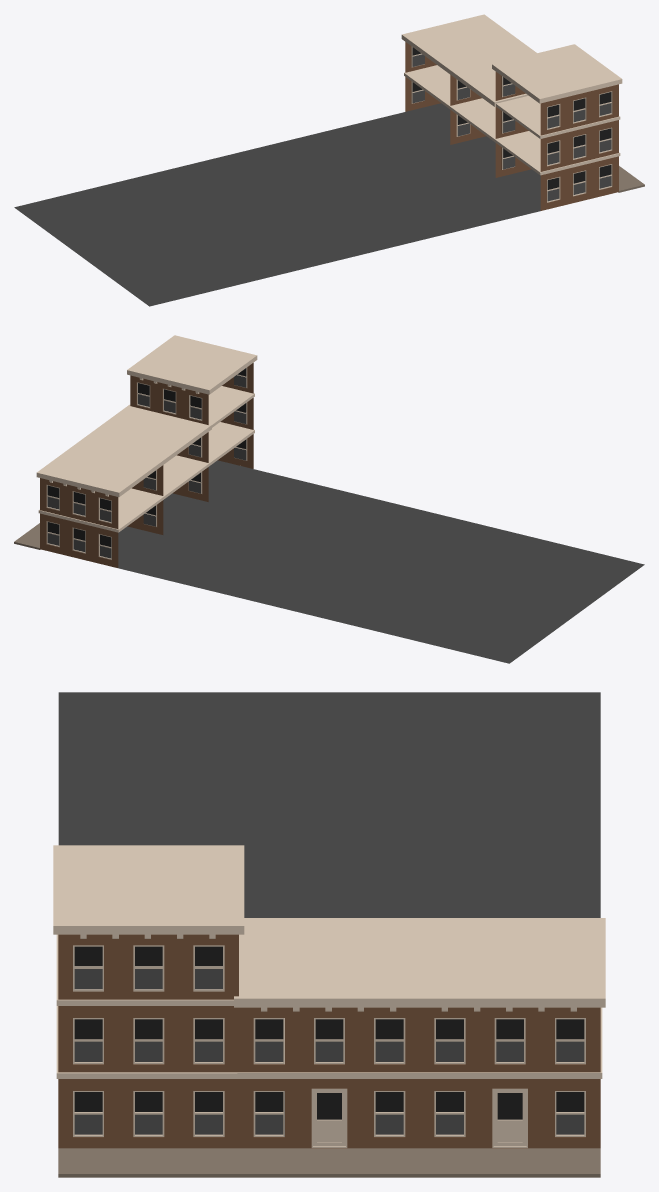
Rendered from city_right2.glb.
The picture shows the model from 3 angles, top to bottom: view 1: azimuth 30°, elevation 25°; view 2: azimuth 150°, elevation 25°; view 3: azimuth 270°, elevation 25°; orthographic projection. The views are drawn at different scales.
Visible parts, largest first — view 1: Plane.001, bigb, smallB.001, smallB; view 2: Plane.001, smallB.001, bigb, smallB; view 3: Plane.001, bigb, smallB.001, smallB, Trottoir.004.
Part boxes in pixels (left/top/right/bottom): Plane.001: left=14, top=103, right=540, bottom=306; bigb: left=492, top=44, right=622, bottom=210; smallB.001: left=401, top=14, right=531, bottom=144; smallB: left=447, top=47, right=536, bottom=176; Plane.001: left=118, top=460, right=644, bottom=663; smallB.001: left=36, top=438, right=166, bottom=567; bigb: left=127, top=335, right=257, bottom=501; smallB: left=82, top=404, right=211, bottom=534; Plane.001: left=58, top=692, right=600, bottom=1136; bigb: left=53, top=845, right=244, bottom=1148; smallB.001: left=414, top=918, right=605, bottom=1148; smallB: left=234, top=918, right=424, bottom=1148; Trottoir.004: left=58, top=1148, right=600, bottom=1177.
Size of the model in its own units: 57 by 12.56 by 27.51.
